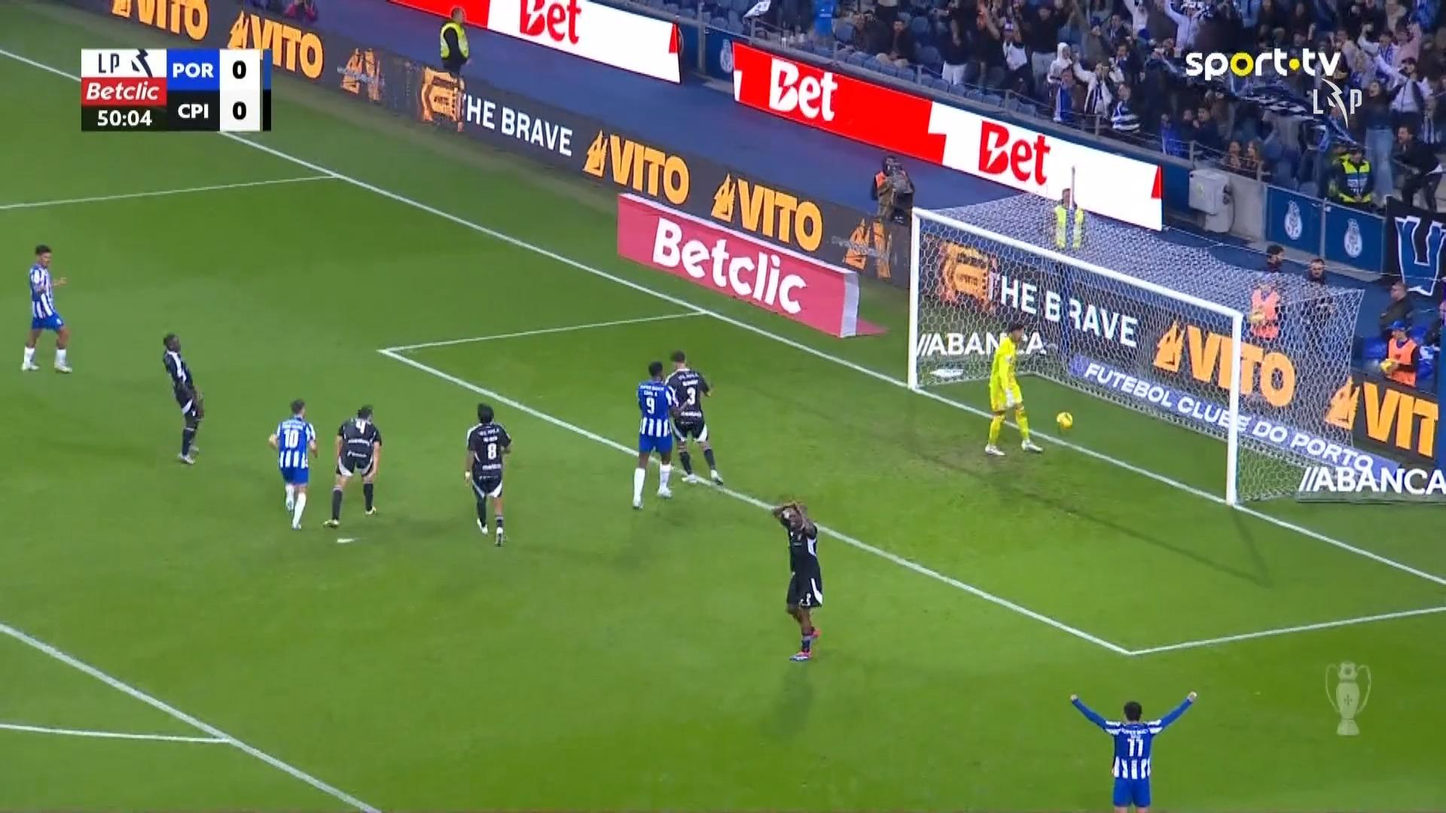ball: (1056, 411, 1072, 430), (1247, 310, 1264, 324)
goalkeeper: (983, 319, 1044, 456)
player: (1068, 689, 1198, 811), (770, 499, 824, 661), (664, 349, 724, 485), (630, 360, 682, 510), (322, 403, 382, 527), (462, 402, 513, 547), (20, 243, 72, 373), (267, 398, 318, 530), (160, 332, 205, 465)
